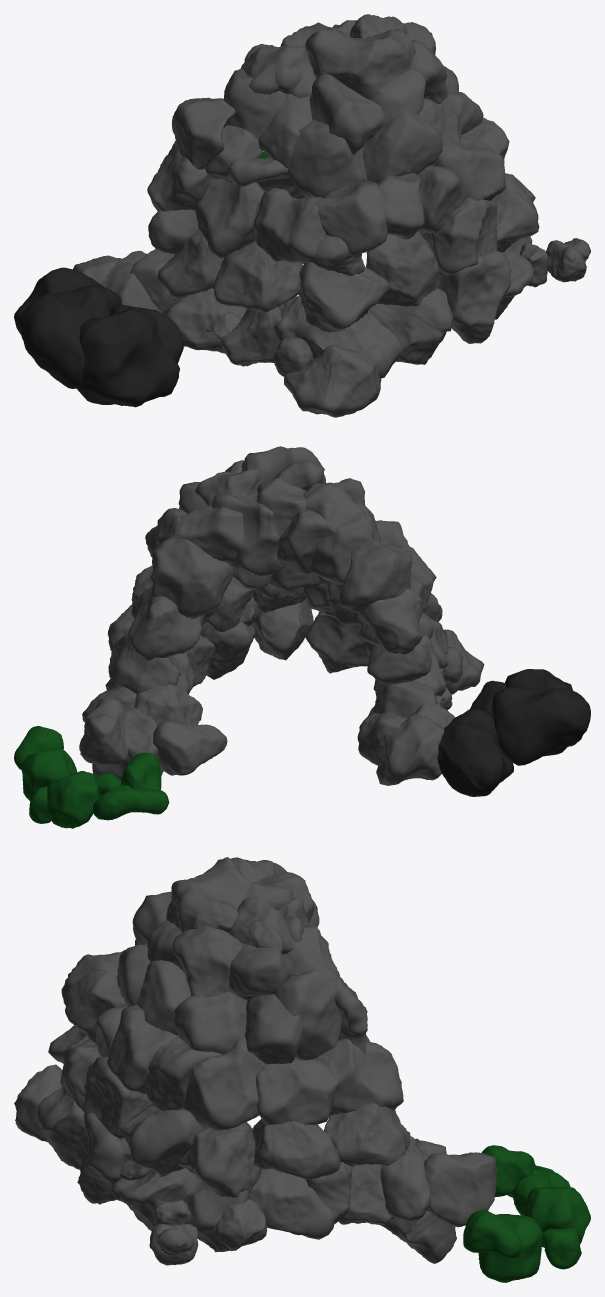
Rendered from cave_color-model.fbx.
3 views of the same model, one above another, from view 1: azimuth 30°, elevation 25°; view 2: azimuth 150°, elevation 25°; view 3: azimuth 270°, elevation 25° (orthographic). The views are drawn at different scales.
Parts seen in each view (by area): view 1: rock, rock.013; view 2: rock, rock.013, rock.014; view 3: rock, rock.014.
Boxes of the visible parts, x1,y1,x2,y2 form: rock: (73, 14, 590, 417); rock.013: (14, 267, 183, 407); rock: (79, 446, 484, 785); rock.013: (437, 669, 590, 796); rock.014: (14, 726, 169, 828); rock: (14, 857, 497, 1265); rock.014: (463, 1145, 590, 1282).
Bounding box in the file's own units: 859 × 492 × 758.
